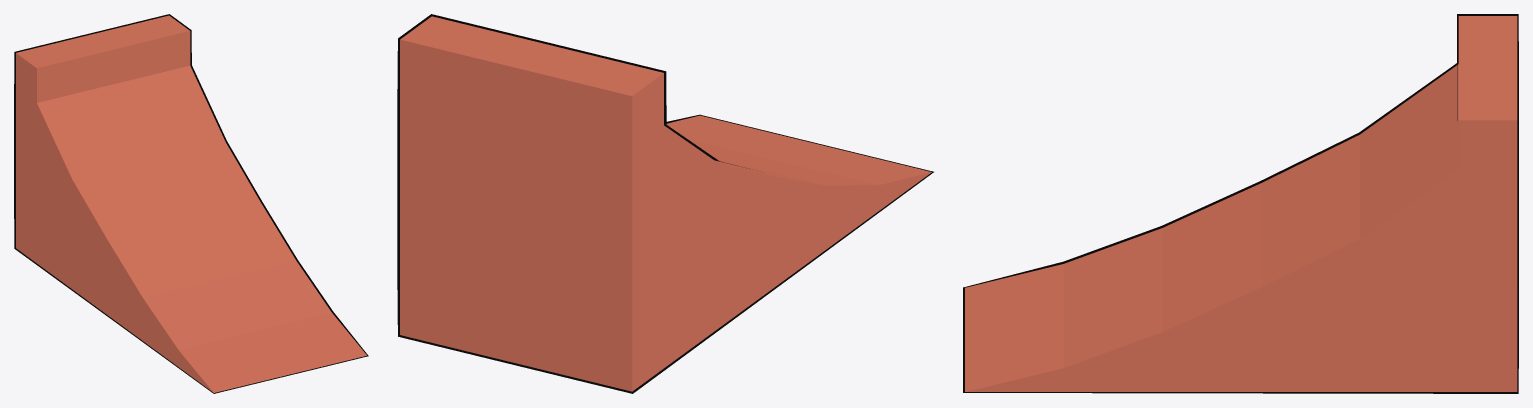
File: ramp_godot.glb
3 renders of one model, left to right at view 1: azimuth 30°, elevation 25°; view 2: azimuth 150°, elevation 25°; view 3: azimuth 270°, elevation 25°, orthographic. The views are drawn at different scales.
Parts seen in each view (by area): view 1: ramp; view 2: ramp; view 3: ramp.
Boxes of the visible parts, bbox=[...] form: ramp: bbox=[14, 14, 368, 393]; ramp: bbox=[397, 14, 933, 393]; ramp: bbox=[963, 14, 1518, 393].
Size of what is drawn, in the model's own units: 2.03 by 2.46 by 4.51.
2 materials, 1 textured.
